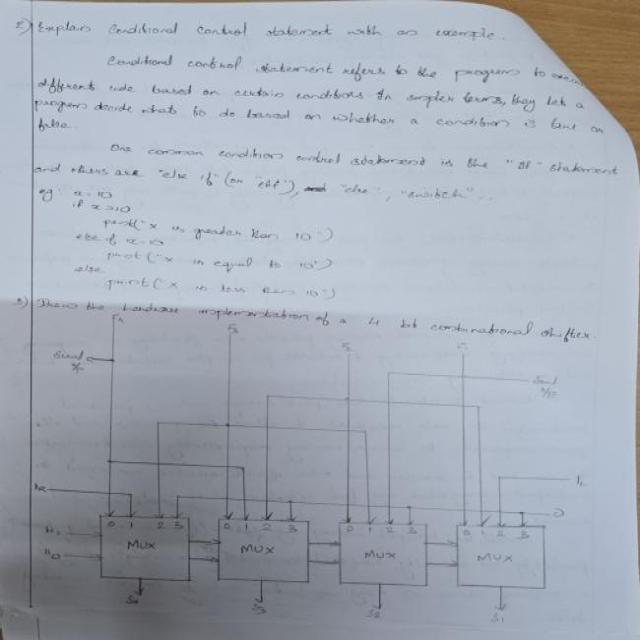Figure Detection - v3 Dataset Version2: (28, 307, 600, 638)
